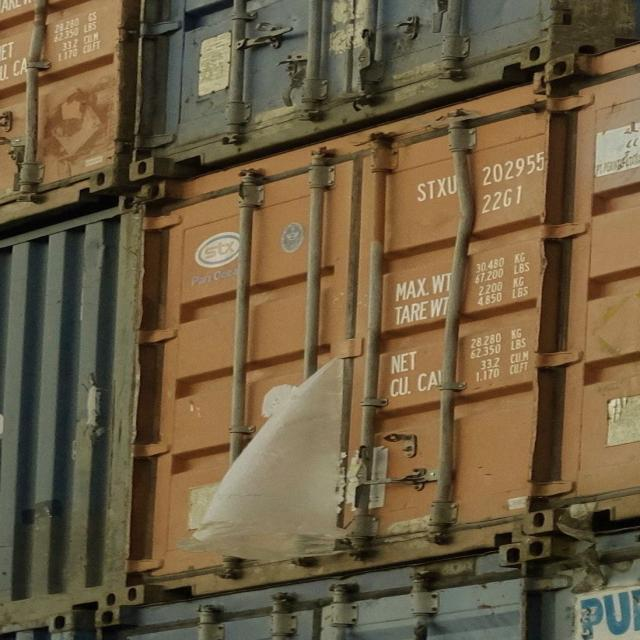ISO: (482, 182, 526, 216)
container_number: (419, 155, 546, 184)
